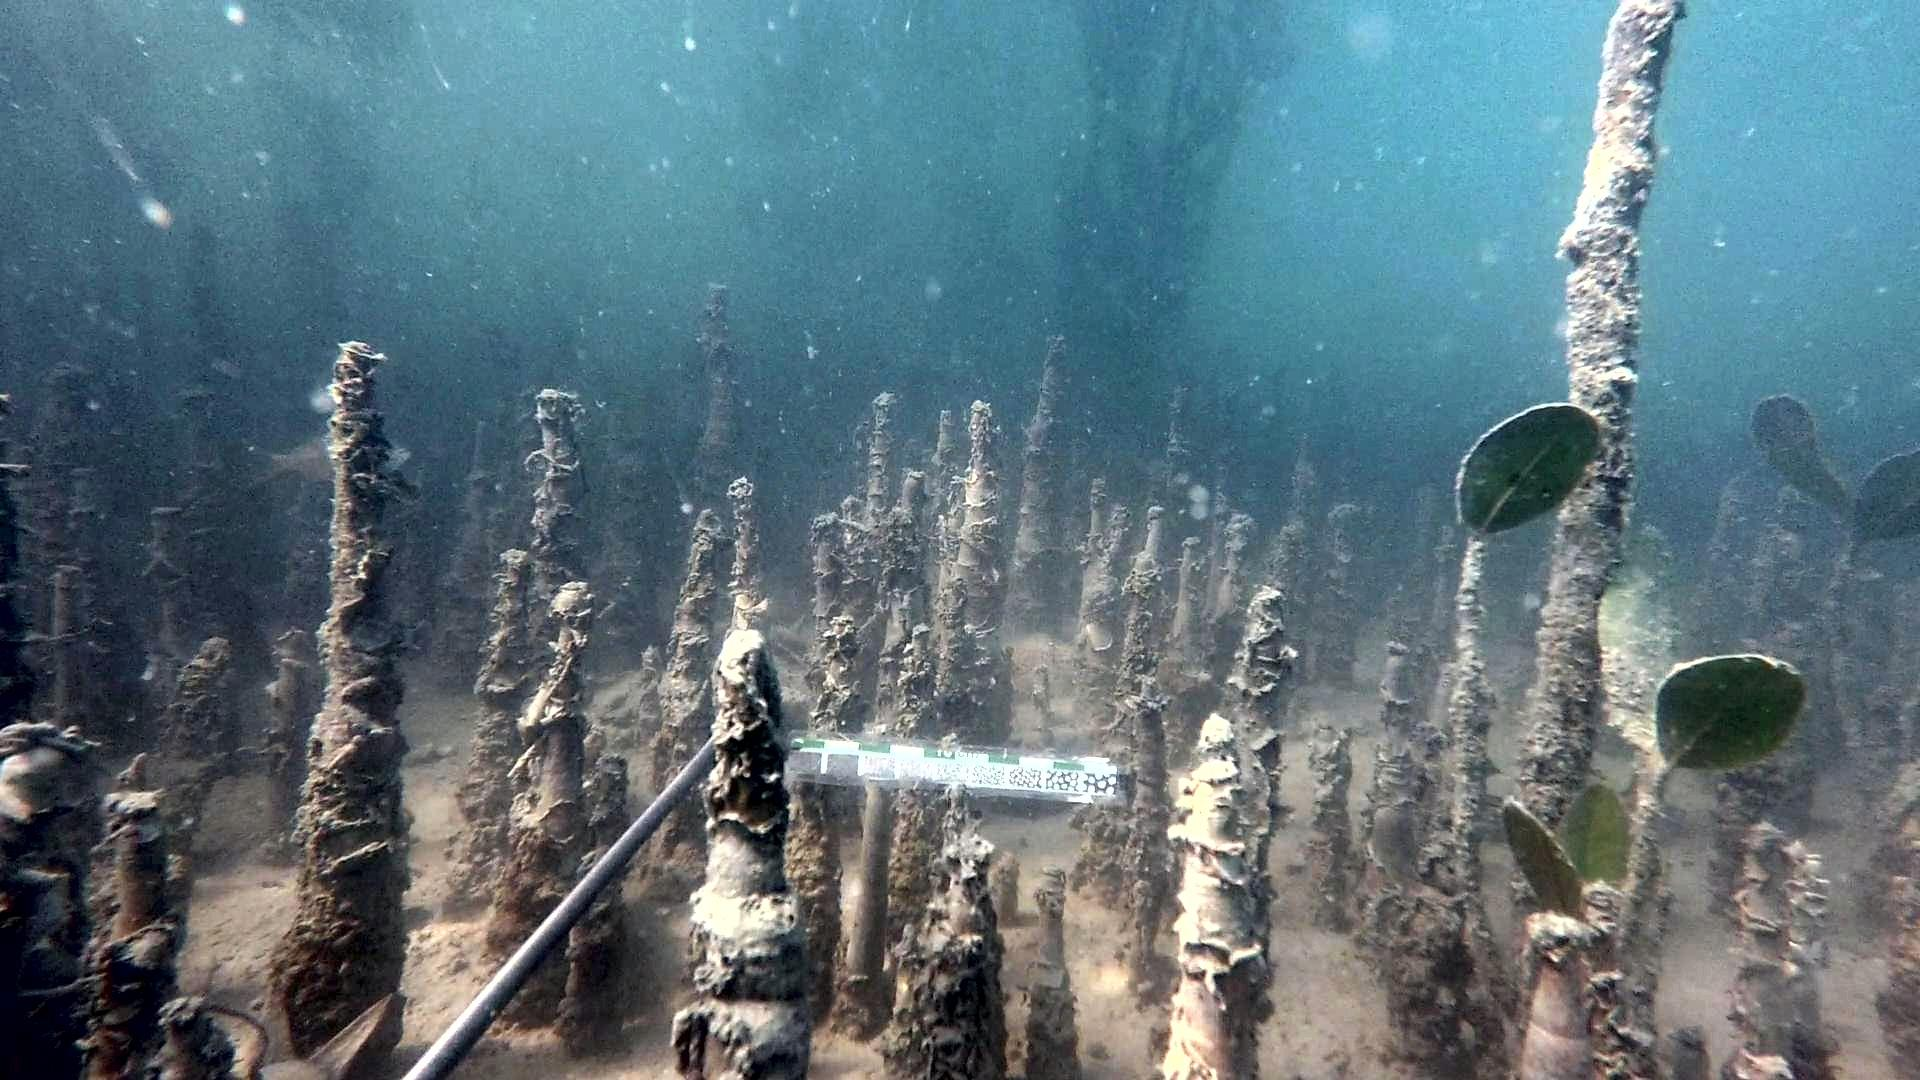gerres: (233, 417, 411, 488)
